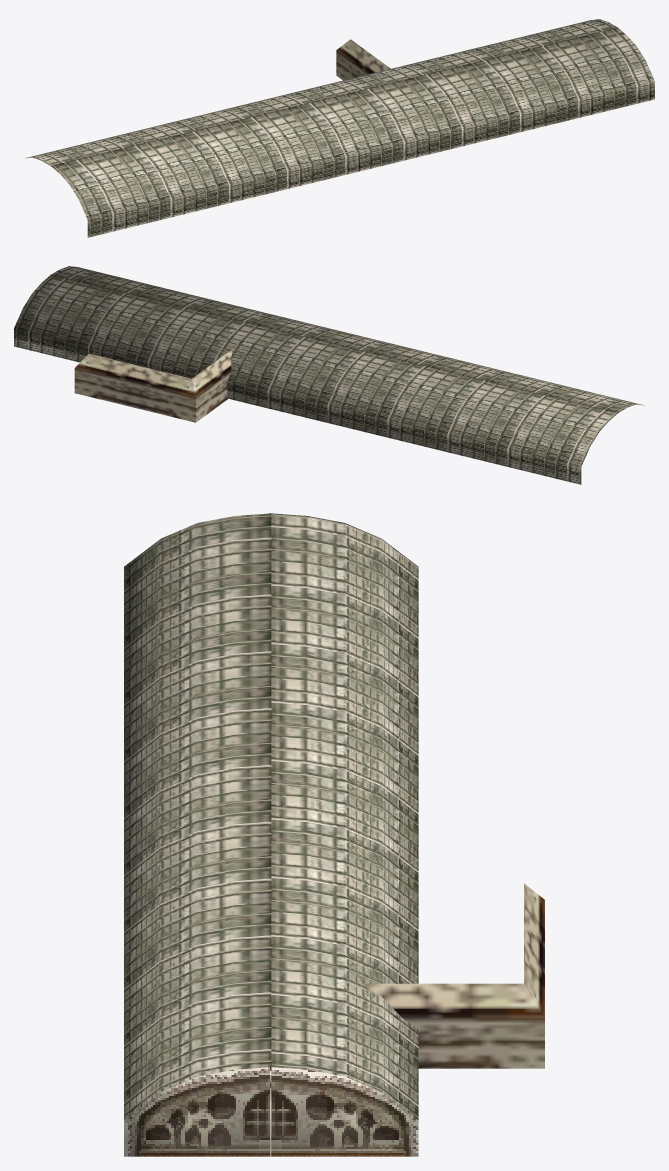
File: M2Zone1_Mosque_B.glb
3 views of the same model, one above another, from view 1: azimuth 30°, elevation 25°; view 2: azimuth 150°, elevation 25°; view 3: azimuth 270°, elevation 25° (orthographic). The views are drawn at different scales.
Parts seen in each view (by area): view 1: M2ZONE1_MOSQUE_B; view 2: M2ZONE1_MOSQUE_B; view 3: M2ZONE1_MOSQUE_B.
Part boxes in pixels (<box>): M2ZONE1_MOSQUE_B: <box>25,19,654,237</box>; M2ZONE1_MOSQUE_B: <box>14,266,643,484</box>; M2ZONE1_MOSQUE_B: <box>124,513,544,1156</box>.
Size of the model in its own units: 35.6 by 2.75 by 11.44.
Materials: 3 (3 with a texture image).
